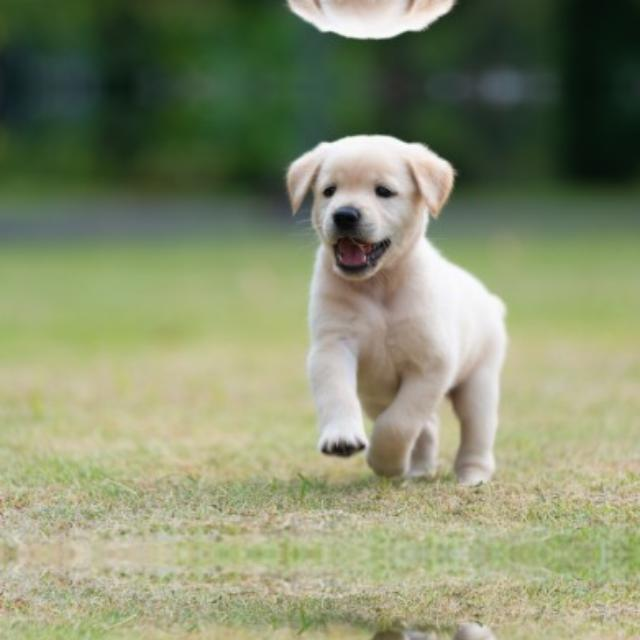dog: (277, 118, 525, 502), (277, 0, 525, 54), (277, 605, 525, 640)
